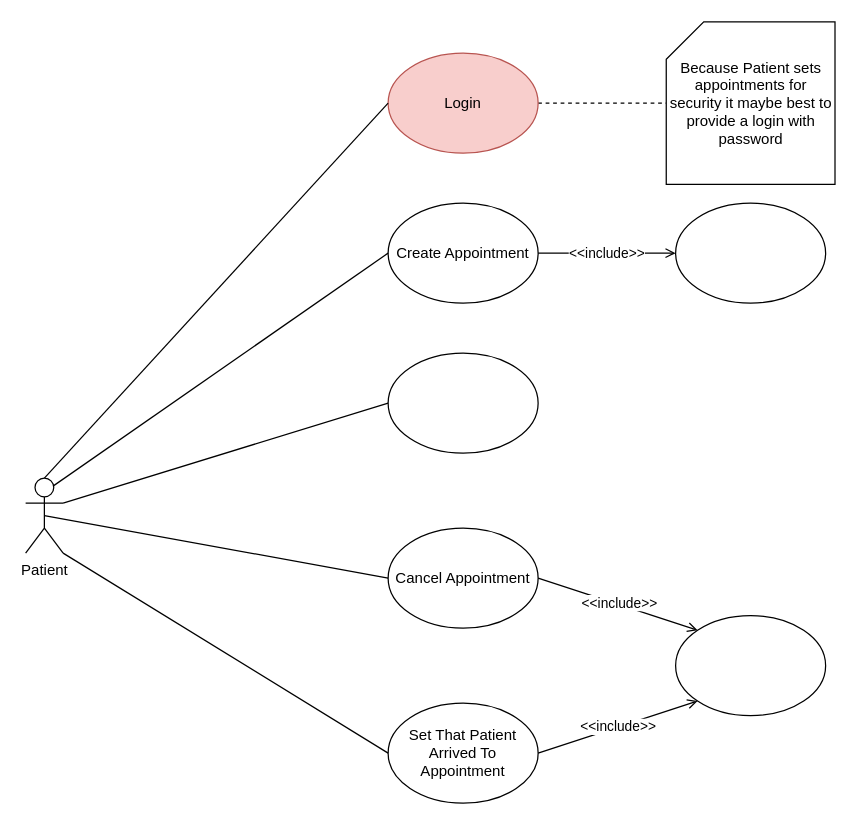
Some shapes in this 858 by 825 pixel diagram are drawn without their labels. The centre of each missing label's shape, as x and y in pixels:
"Check Avaliable Slots" goes at (x=750, y=252).
"Display Scheduled Appointments" goes at (x=462, y=402).
"Search Appointments" goes at (x=750, y=665).
